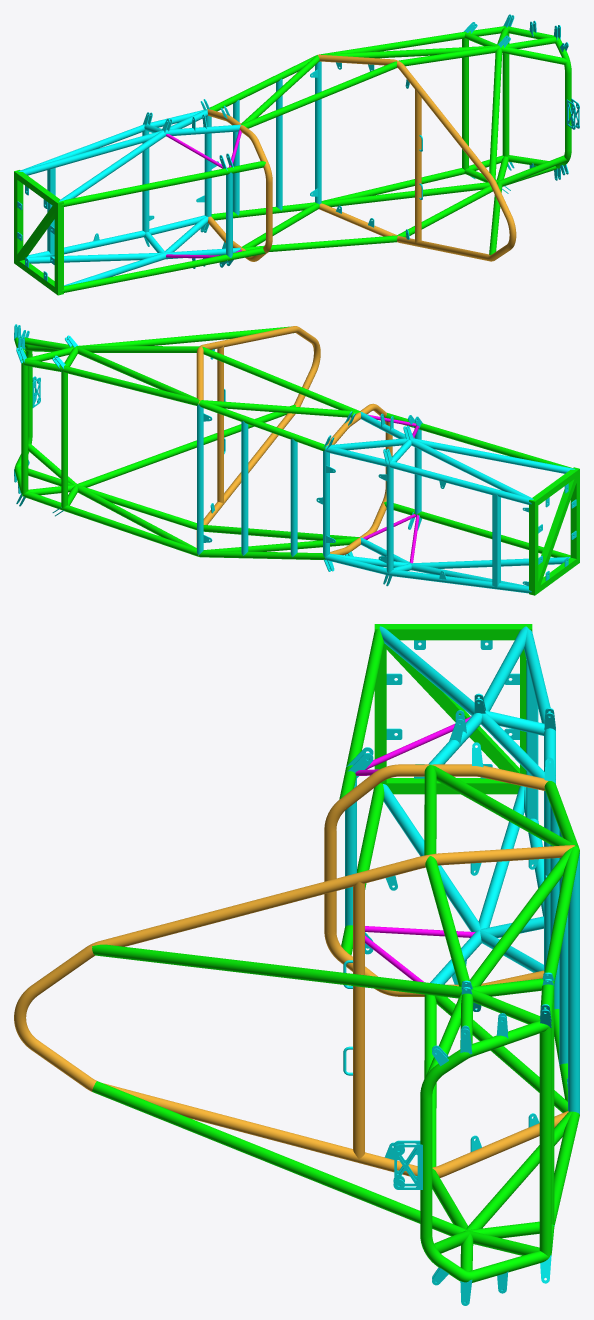
File: formula.glb
3 renders of one model, top to bottom at view 1: azimuth 30°, elevation 25°; view 2: azimuth 150°, elevation 25°; view 3: azimuth 270°, elevation 25°, orthographic. The views are drawn at different scales.
Parts seen in each view (by area): view 1: Chassis V4; view 2: Chassis V4; view 3: Chassis V4.
Part boxes in pixels (x1=…): Chassis V4: x1=14, y1=14, x2=579, y2=295; Chassis V4: x1=14, y1=324, x2=579, y2=595; Chassis V4: x1=14, y1=624, x2=579, y2=1305.
Size of the model in its own units: 2.29 by 0.7491 by 1.19.
